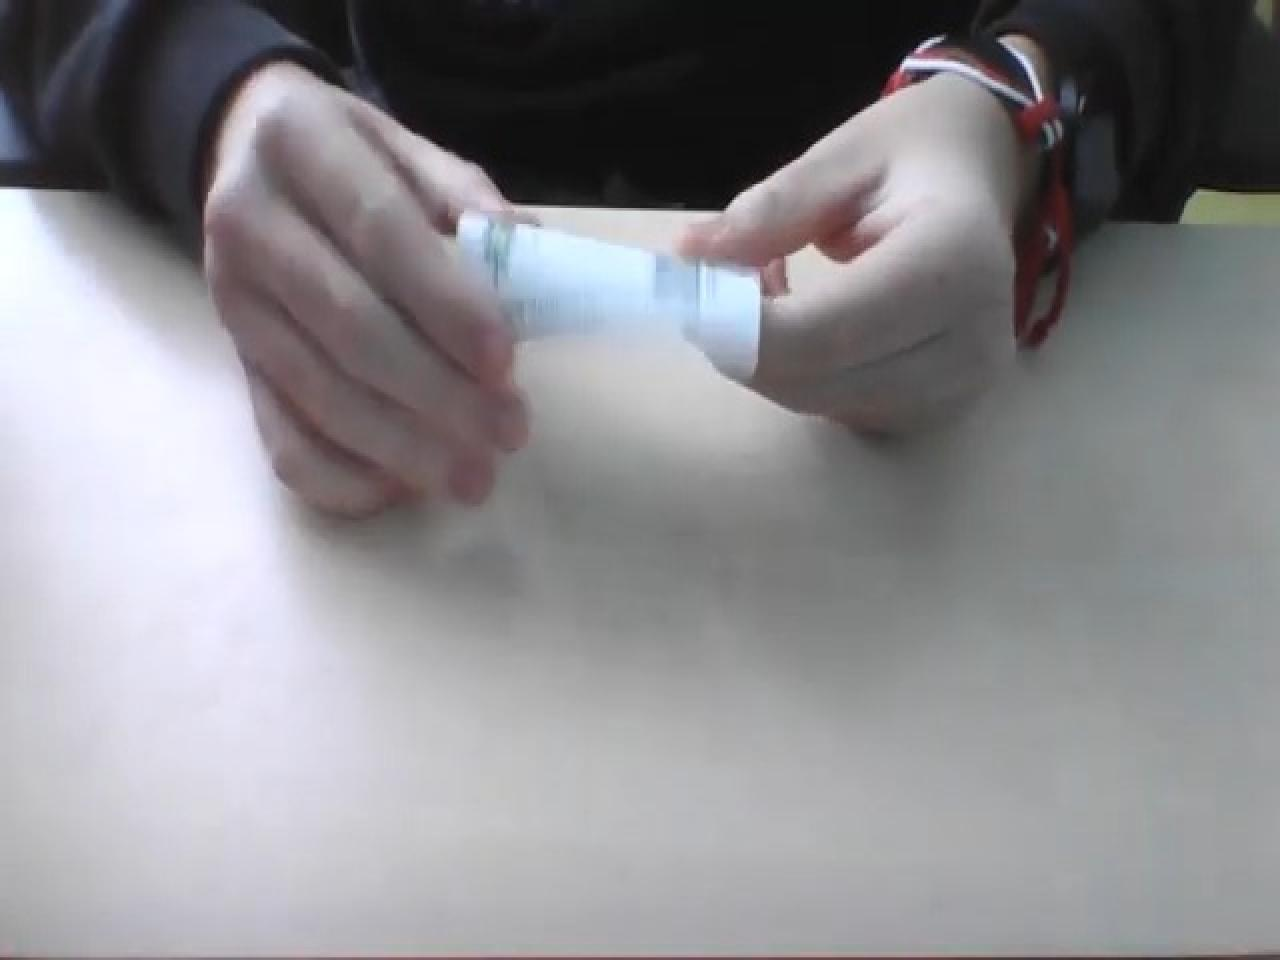100leva: (450, 203, 766, 378)
